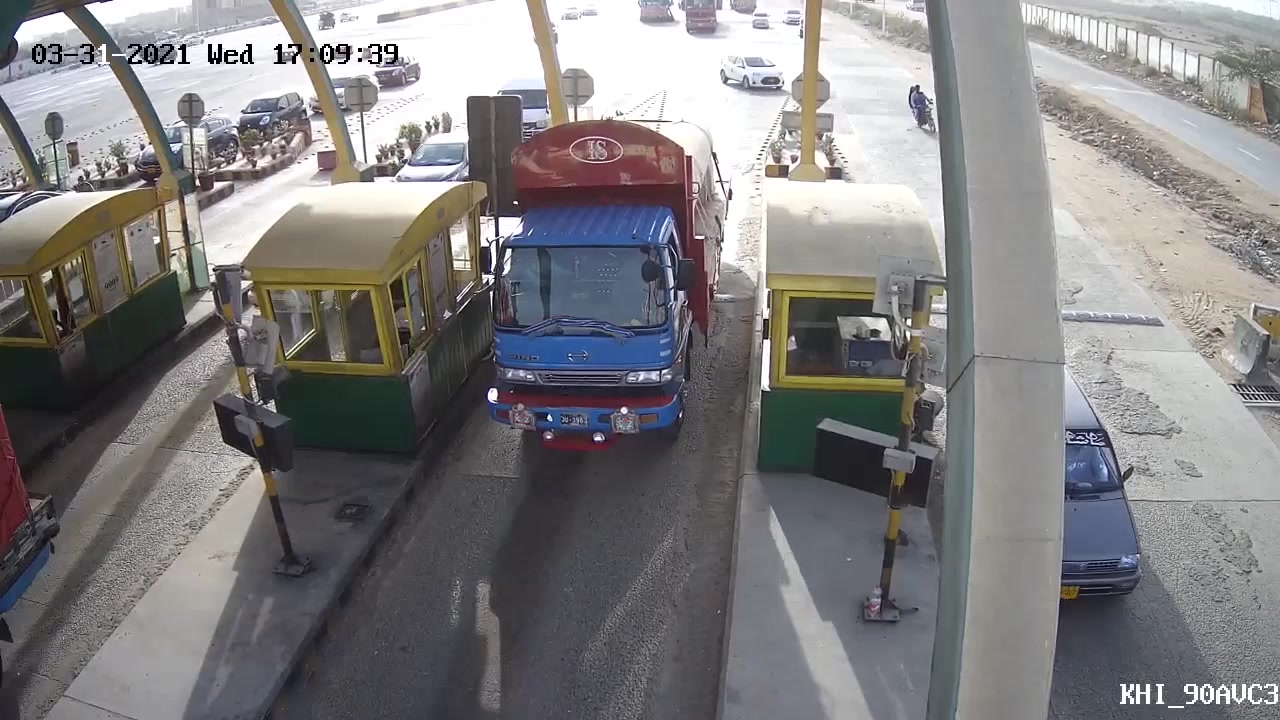F5: (470, 120, 727, 469)
